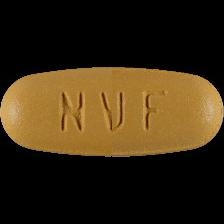0078-0491: (0, 0, 224, 224)
